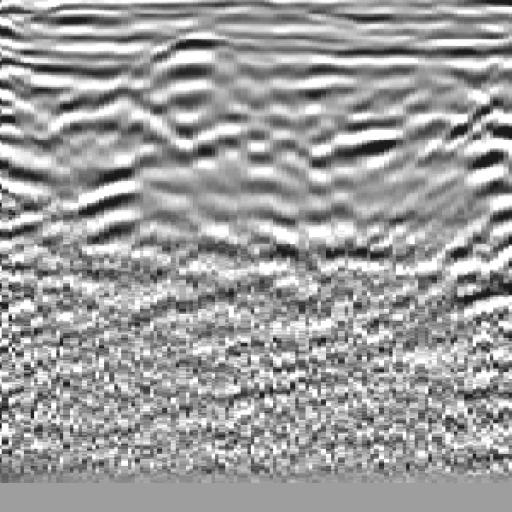metalic: (48, 39, 183, 302)
non-metallic: (102, 24, 308, 165)
nonmetalic: (388, 47, 512, 298)
